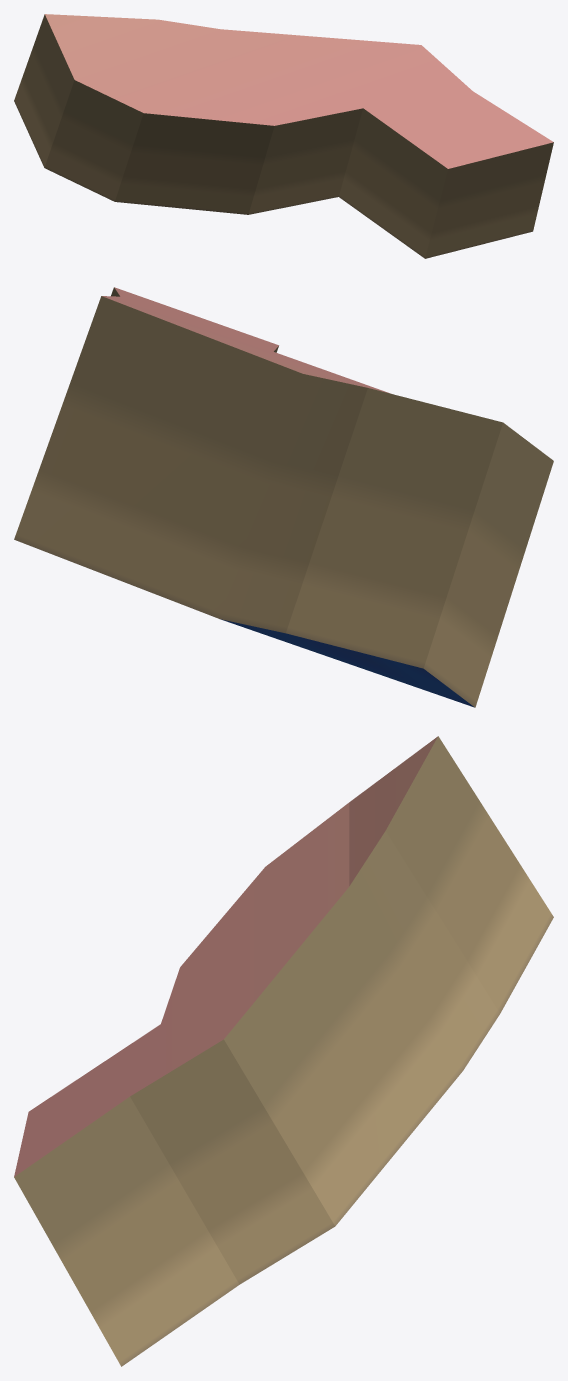
The model's file is 0664_Morocco.glb.
The picture shows the model from 3 angles, top to bottom: view 1: azimuth 30°, elevation 25°; view 2: azimuth 150°, elevation 25°; view 3: azimuth 270°, elevation 25°; orthographic projection. The views are drawn at different scales.
Visible parts, largest first — view 1: part_0; view 2: part_0; view 3: part_0.
Boxes of the visible parts, bbox=[...] form: part_0: bbox=[14, 14, 553, 258]; part_0: bbox=[14, 287, 553, 707]; part_0: bbox=[14, 736, 553, 1366].
Bounding box in the file's own units: 0.5866 × 0.3507 × 0.4776.
Materials: 1 (1 with a texture image).
